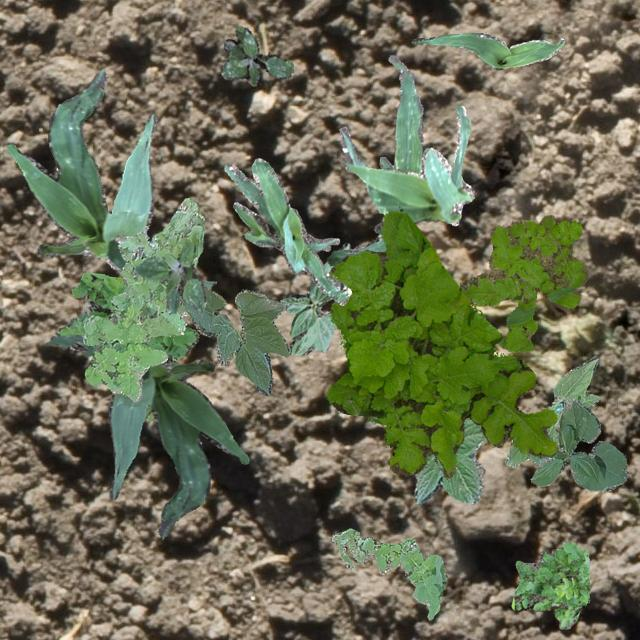crop: (6, 69, 216, 288), (44, 334, 248, 538), (326, 54, 424, 264), (224, 158, 350, 304), (338, 104, 473, 232), (178, 286, 290, 394), (504, 354, 598, 466), (530, 398, 626, 490), (280, 242, 350, 354), (414, 416, 486, 504), (411, 32, 564, 68)
weed: (326, 208, 556, 478), (82, 197, 204, 400), (458, 214, 586, 350), (54, 272, 198, 364), (330, 528, 446, 618), (511, 540, 588, 628), (133, 242, 205, 318), (220, 26, 292, 84), (144, 402, 152, 420)
